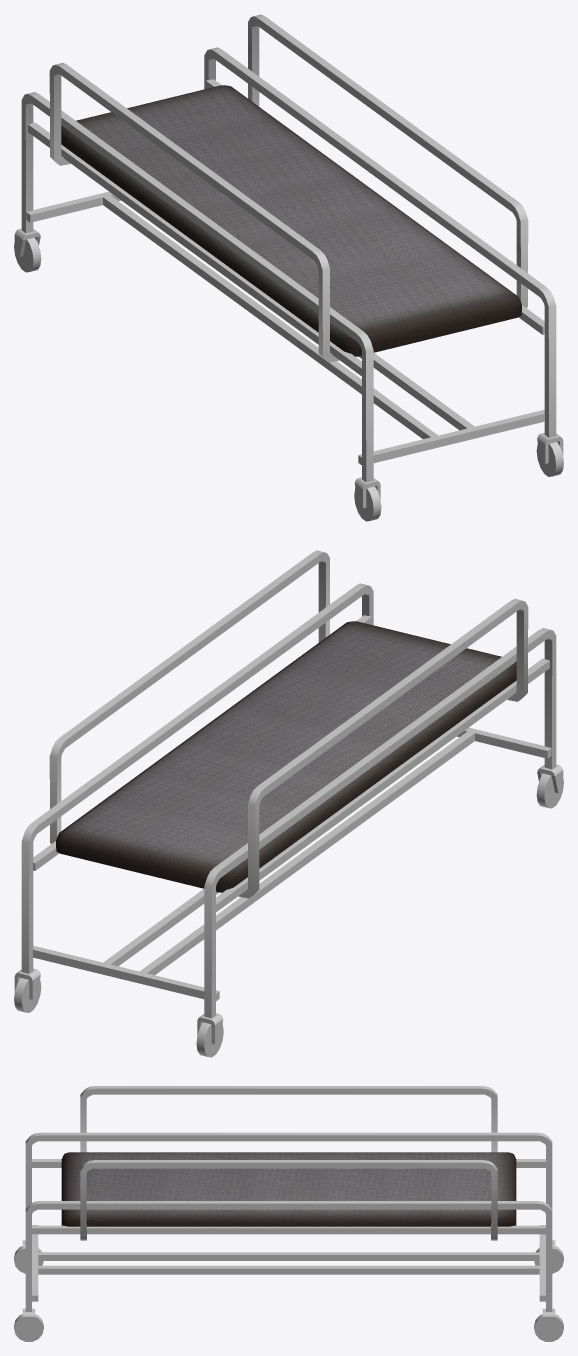
The model's file is bed_A.fbx.
3 renders of one model, top to bottom at view 1: azimuth 30°, elevation 25°; view 2: azimuth 150°, elevation 25°; view 3: azimuth 270°, elevation 25°, orthographic. The views are drawn at different scales.
Parts seen in each view (by area): view 1: bed_A; view 2: bed_A; view 3: bed_A.
Part boxes in pixels (x1,y1,x2,y2): bed_A: (14,14,563,521); bed_A: (14,550,563,1057); bed_A: (14,1086,563,1341).
Size of what is drawn, in the model's own units: 94 by 104 by 285.
